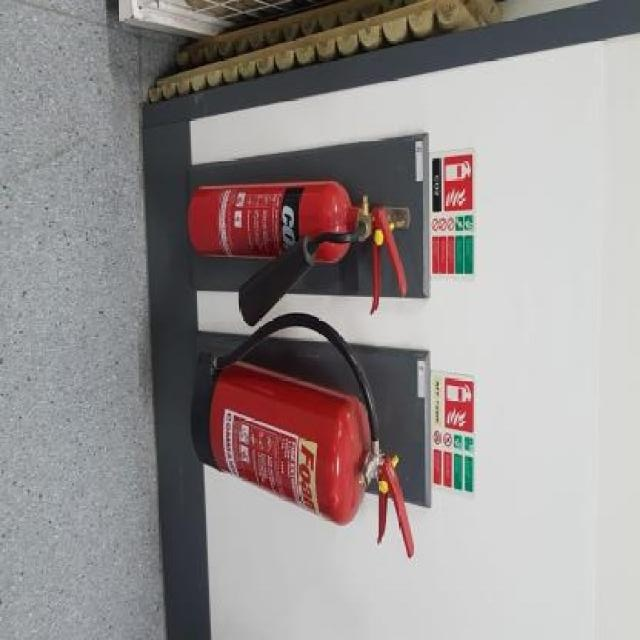fire extinguisher: (191, 309, 415, 560), (187, 180, 408, 326)
